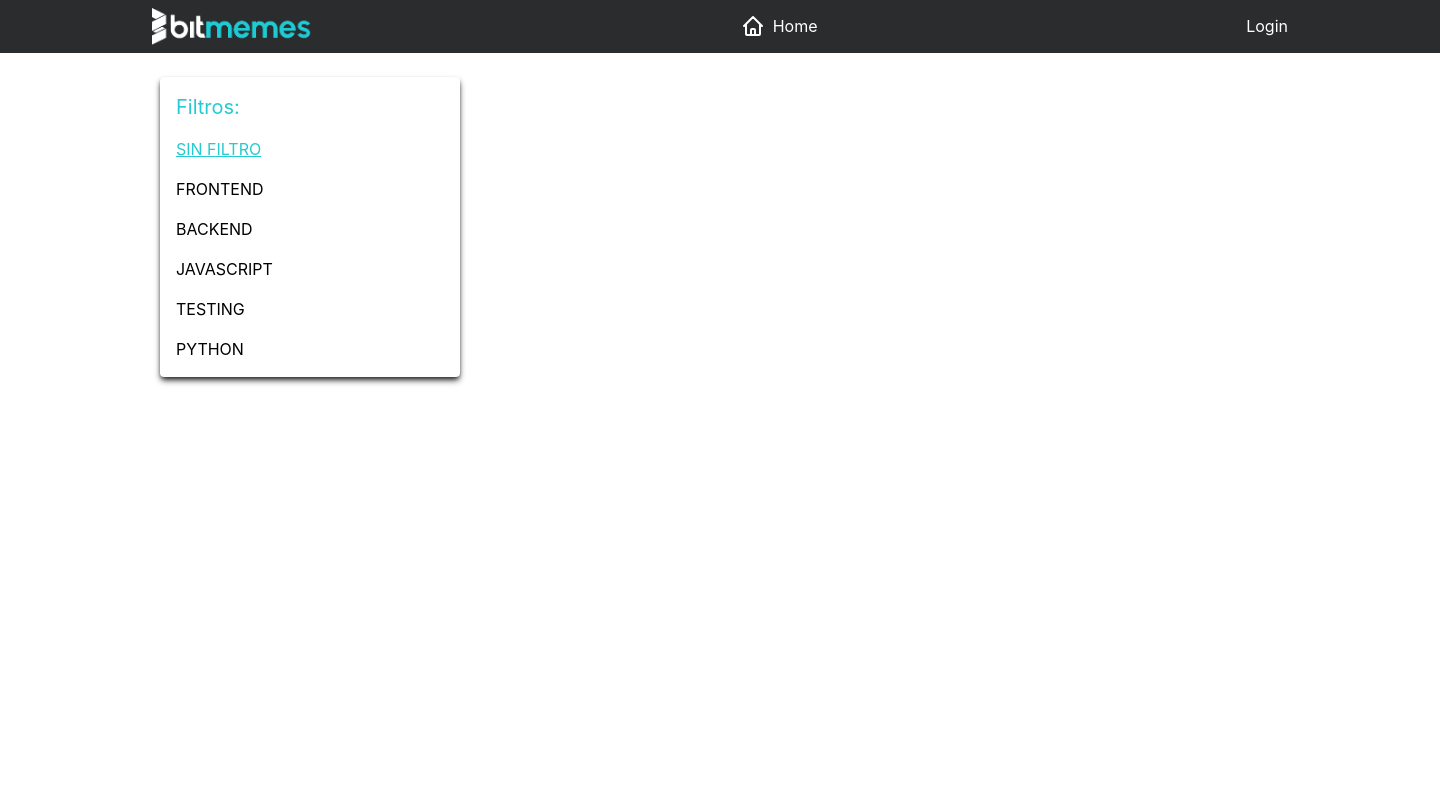
Test: test del flujo de login
The image size is (1440, 800).
Click the button with test id "login-button" at (1267, 26), box [1246, 14, 1288, 38]
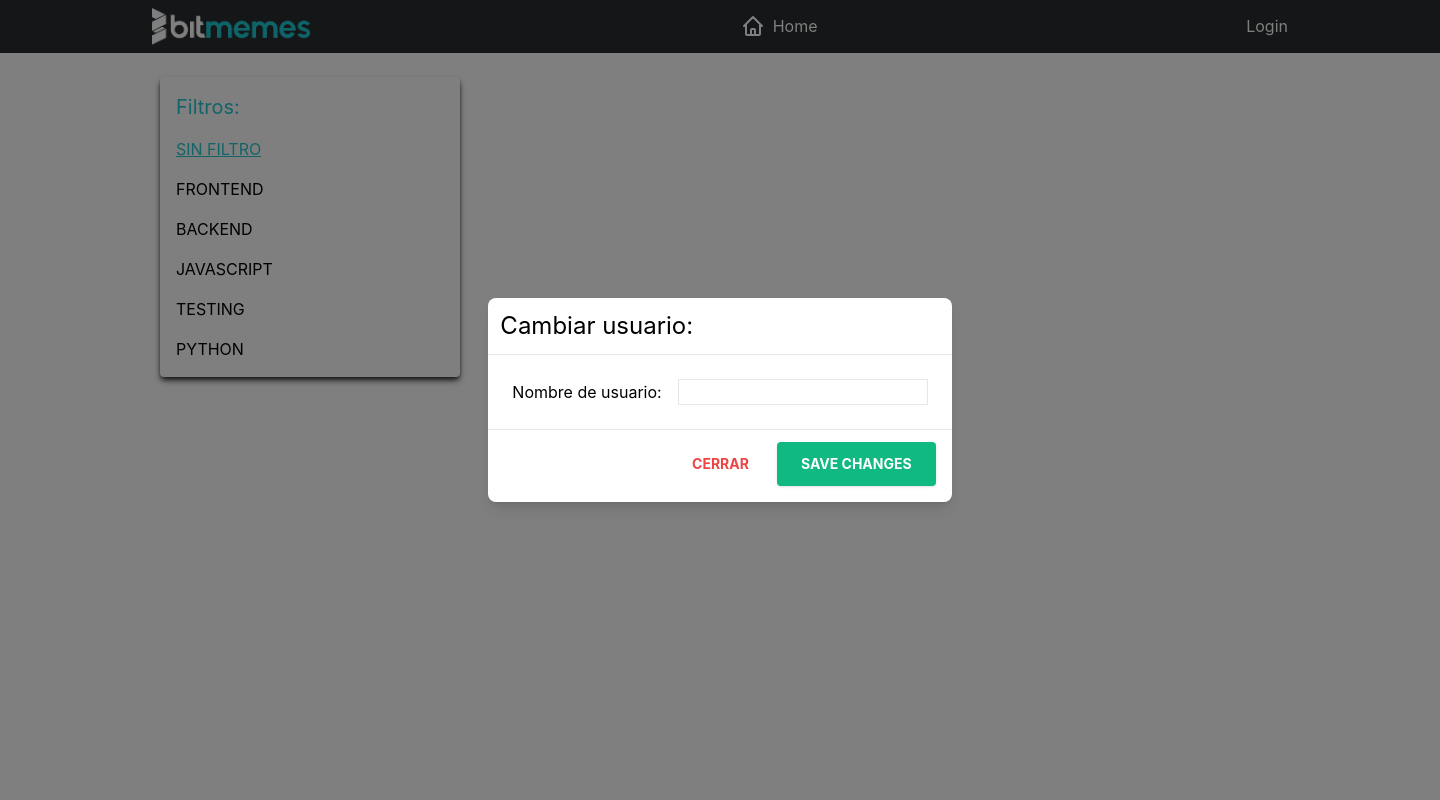
Result: the field labelled "Nombre de usuario:" is shown
Type "funny-eli" into the field with test id "username-input" at (803, 392), box [678, 379, 928, 405]
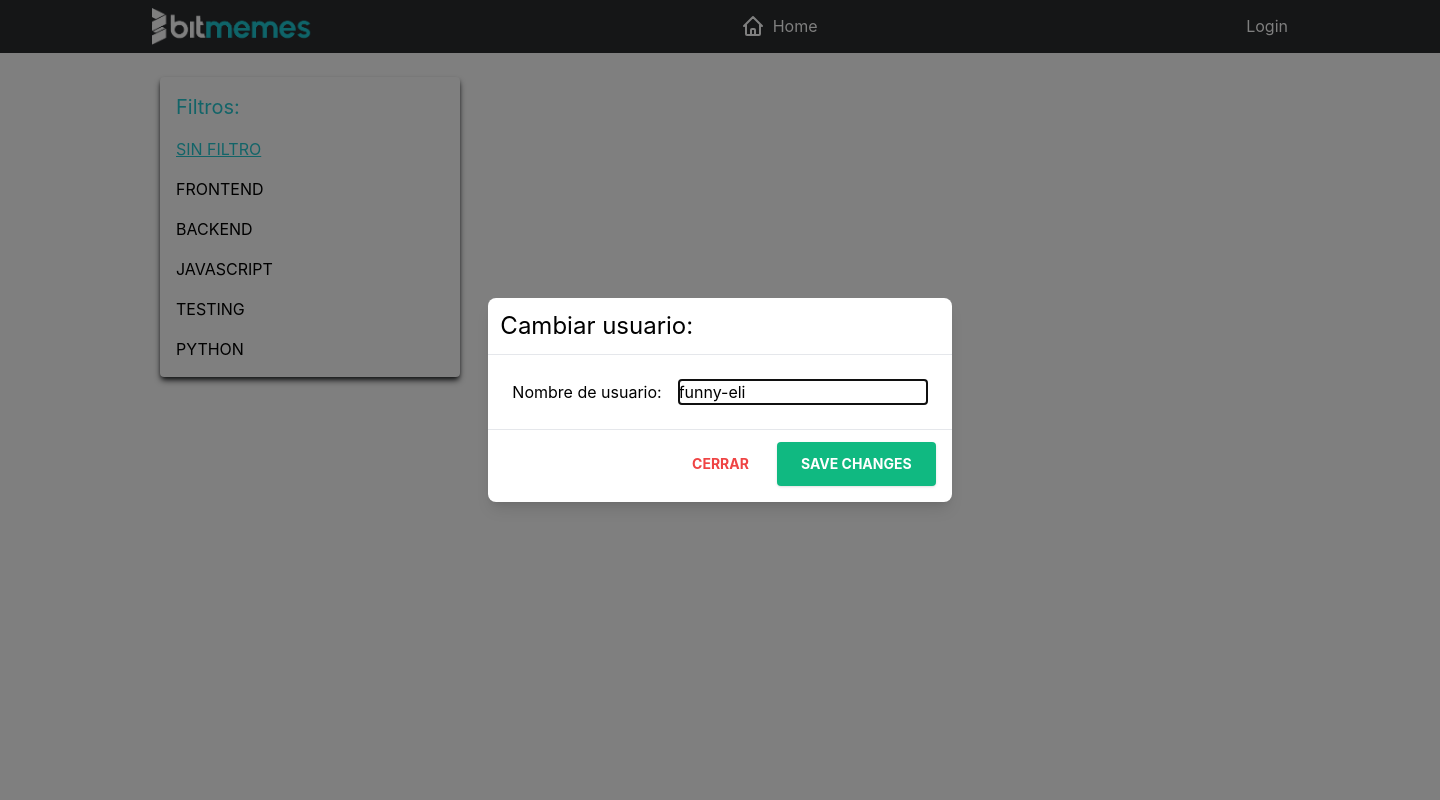
Click the button with test id "username-save" at (857, 464), box [777, 442, 936, 486]
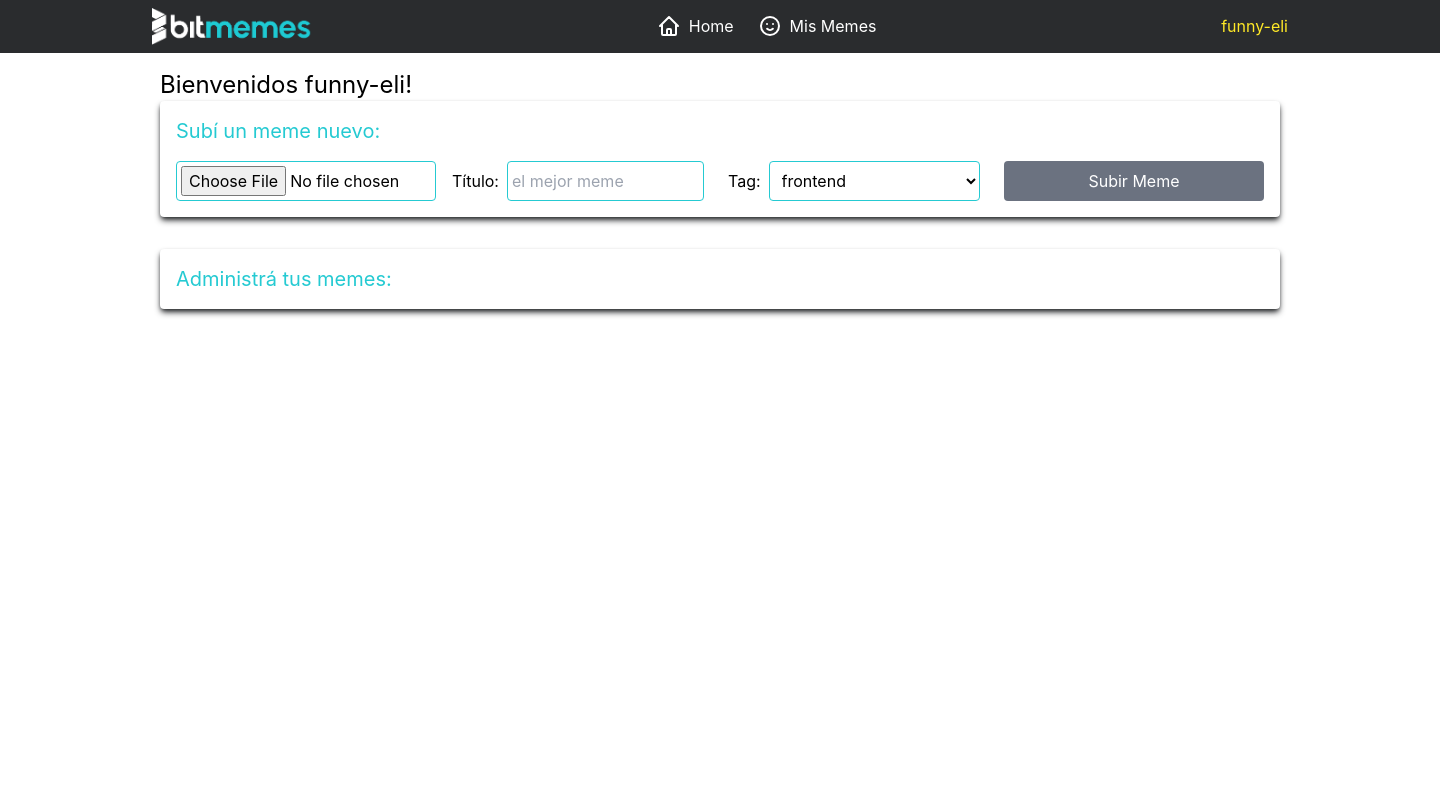
Result: the button "funny-eli" is shown at [1221, 14, 1288, 38]
Result: the link "Mis Memes" is shown at [758, 14, 876, 38]
Result: the heading "Bienvenidos funny-eli!" is shown at [160, 70, 412, 99]
